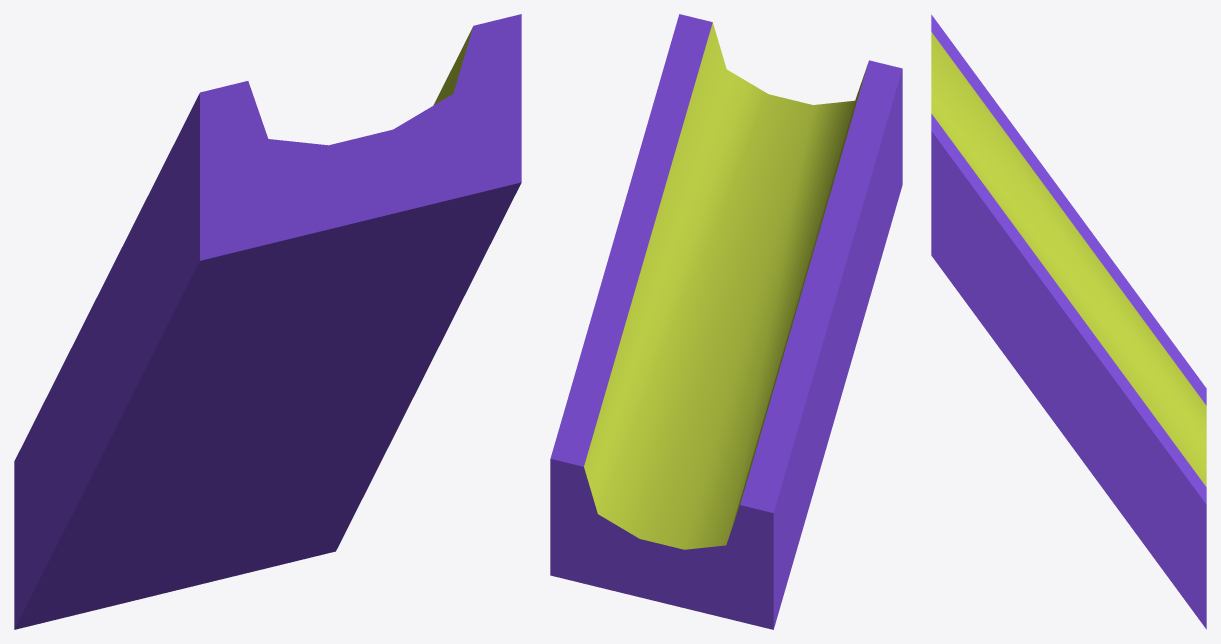
File: slant_D.fbx
3 renders of one model, left to right at view 1: azimuth 30°, elevation 25°; view 2: azimuth 150°, elevation 25°; view 3: azimuth 270°, elevation 25°, orthographic. The views are drawn at different scales.
Visible parts, largest first — view 1: slant_D; view 2: slant_D; view 3: slant_D.
Part boxes in pixels (x1,y1,x2,y2): slant_D: (14,14,521,629); slant_D: (550,14,902,629); slant_D: (931,14,1206,629).
Bounding box in the file's own units: 10 × 20 × 10.
